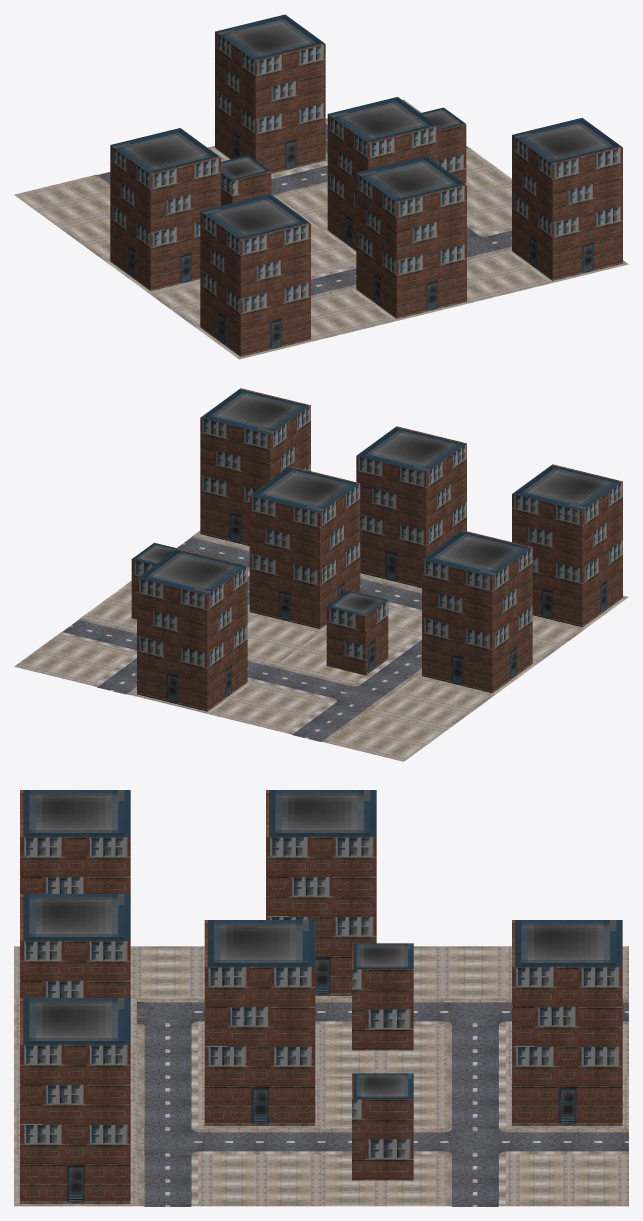
The model's file is StreetTile.003.fbx.
3 renders of one model, top to bottom at view 1: azimuth 30°, elevation 25°; view 2: azimuth 150°, elevation 25°; view 3: azimuth 270°, elevation 25°, orthographic. The views are drawn at different scales.
Visible parts, largest first — view 1: Center.003, Outside.003, StraightRoad.003, CrossRoads.003; view 2: Center.003, Outside.003, StraightRoad.003, CrossRoads.003; view 3: Center.003, Outside.003, StraightRoad.003, CrossRoads.003.
Boxes of the visible parts, left/top/right/bottom form: Center.003: left=14, top=14, right=628, bottom=359; Outside.003: left=221, top=97, right=438, bottom=275; StraightRoad.003: left=92, top=119, right=511, bottom=297; CrossRoads.003: left=467, top=234, right=505, bottom=259; Center.003: left=14, top=388, right=628, bottom=761; Outside.003: left=247, top=466, right=421, bottom=683; StraightRoad.003: left=59, top=535, right=421, bottom=742; CrossRoads.003: left=332, top=684, right=392, bottom=709; Center.003: left=14, top=790, right=628, bottom=1206; Outside.003: left=198, top=920, right=444, bottom=1128; StraightRoad.003: left=137, top=998, right=628, bottom=1206; CrossRoads.003: left=137, top=998, right=505, bottom=1154.
Size of the model in its own units: 8000 by 2291 by 8002.
